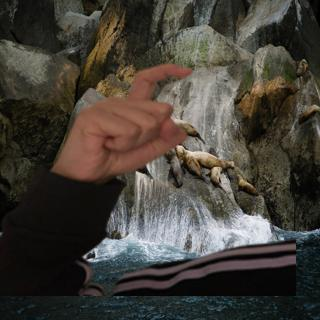WHY: (48, 53, 204, 182)
